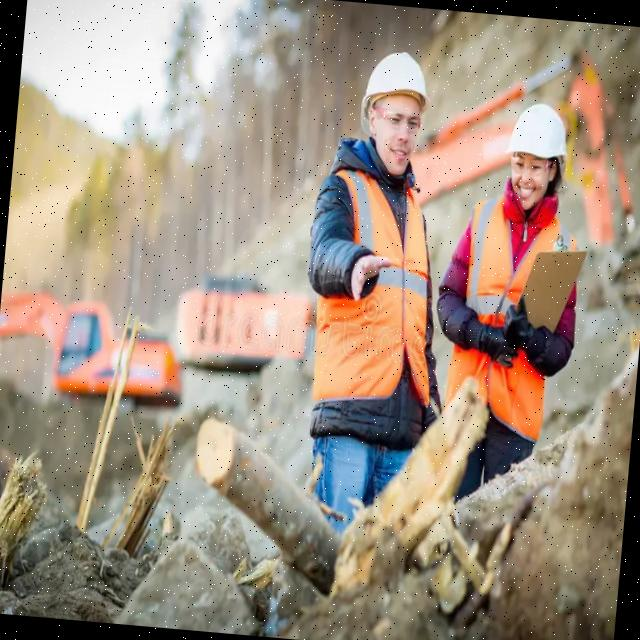Helmet: (360, 47, 433, 128), (507, 102, 572, 161)
Jacket: (318, 152, 437, 408), (455, 194, 569, 397)
